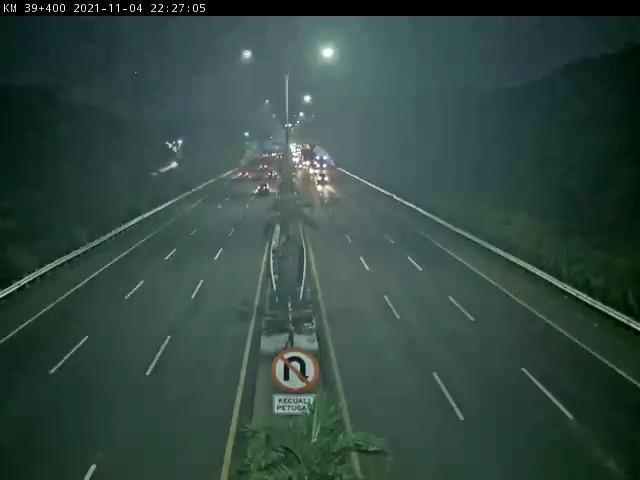car: (256, 183, 276, 200)
